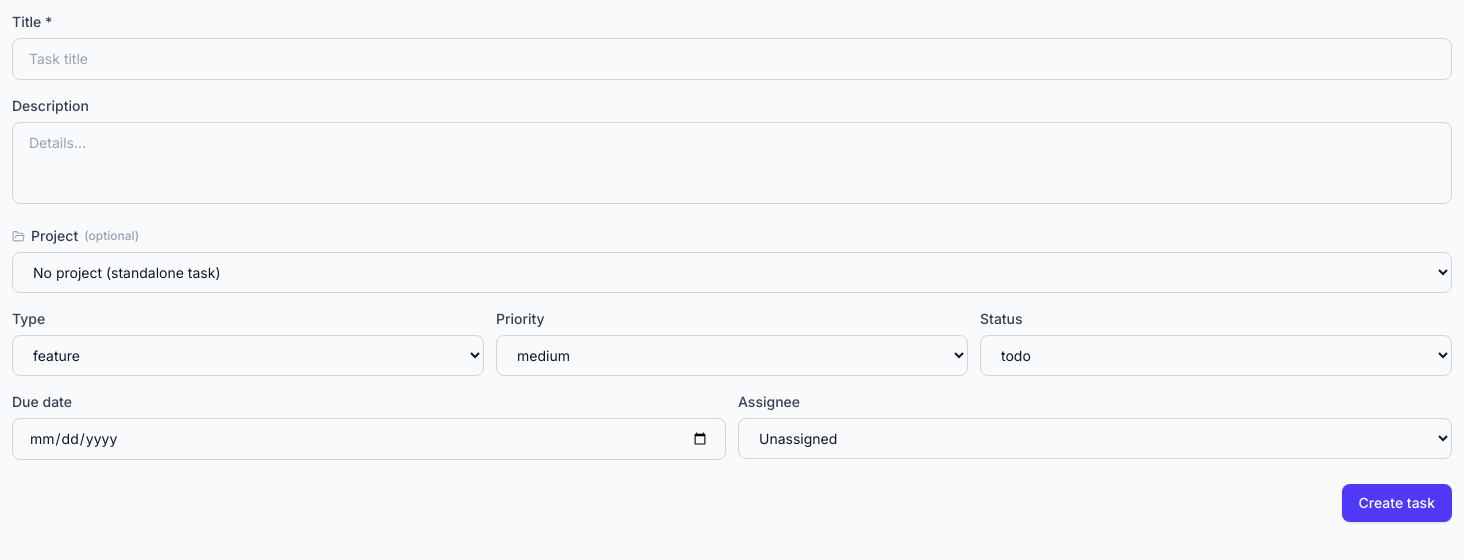
Scenario: TaskForm – validation › shows title required error when submitted with empty title
Click the button "Create task" at (1397, 503), box top-left (1342, 484), bottom-right (1452, 522)
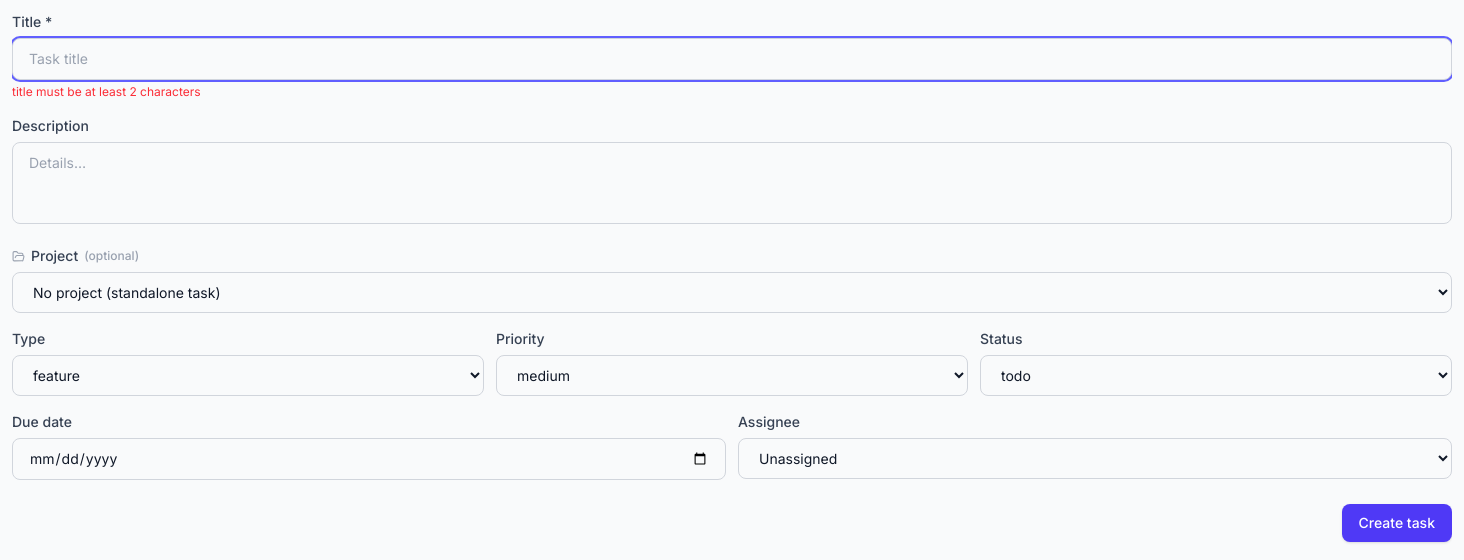
Now the text "title must be at least 2 characters" is shown, box top-left (12, 84), bottom-right (201, 99)
